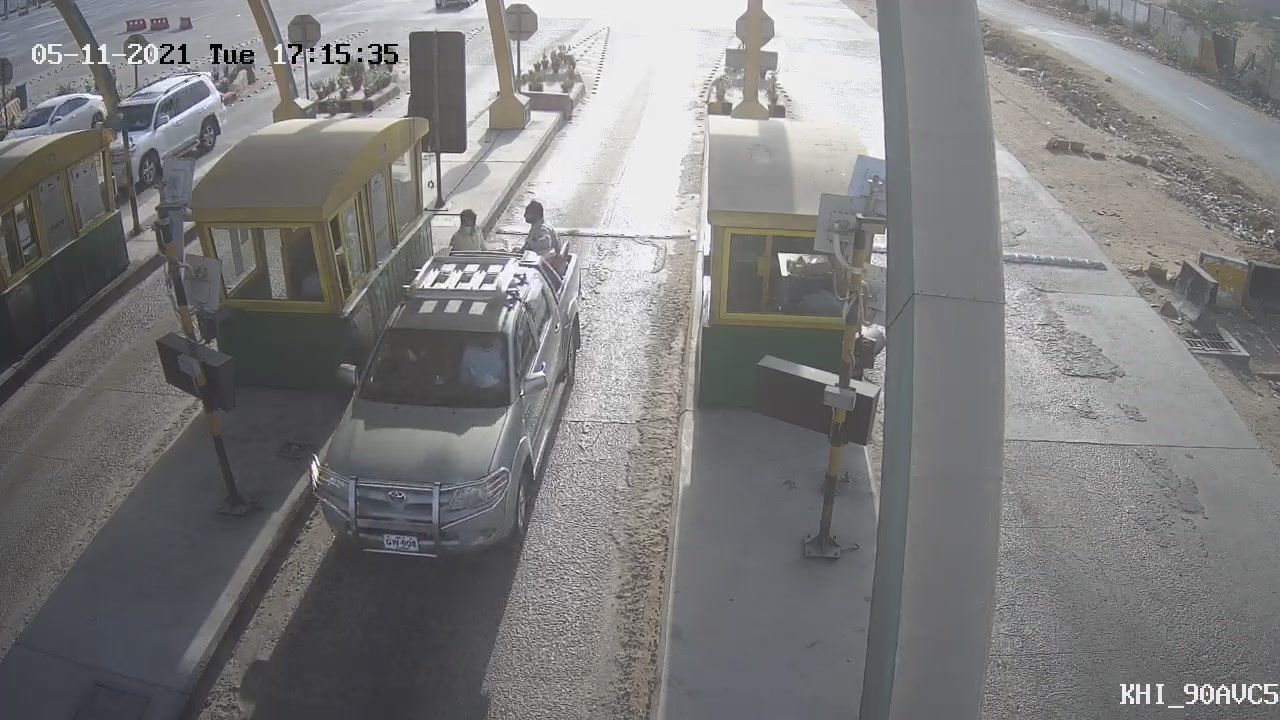F1: (278, 196, 608, 583)
